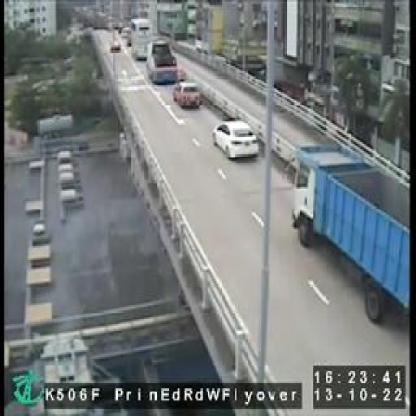Bus: (131, 17, 154, 61)
Car: (212, 118, 260, 161), (173, 81, 203, 106)
Truck: (290, 142, 406, 322), (148, 38, 180, 82)
